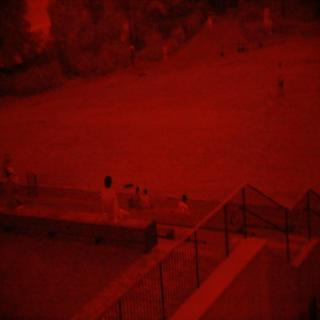person: (92, 161, 120, 218), (173, 187, 194, 229)
